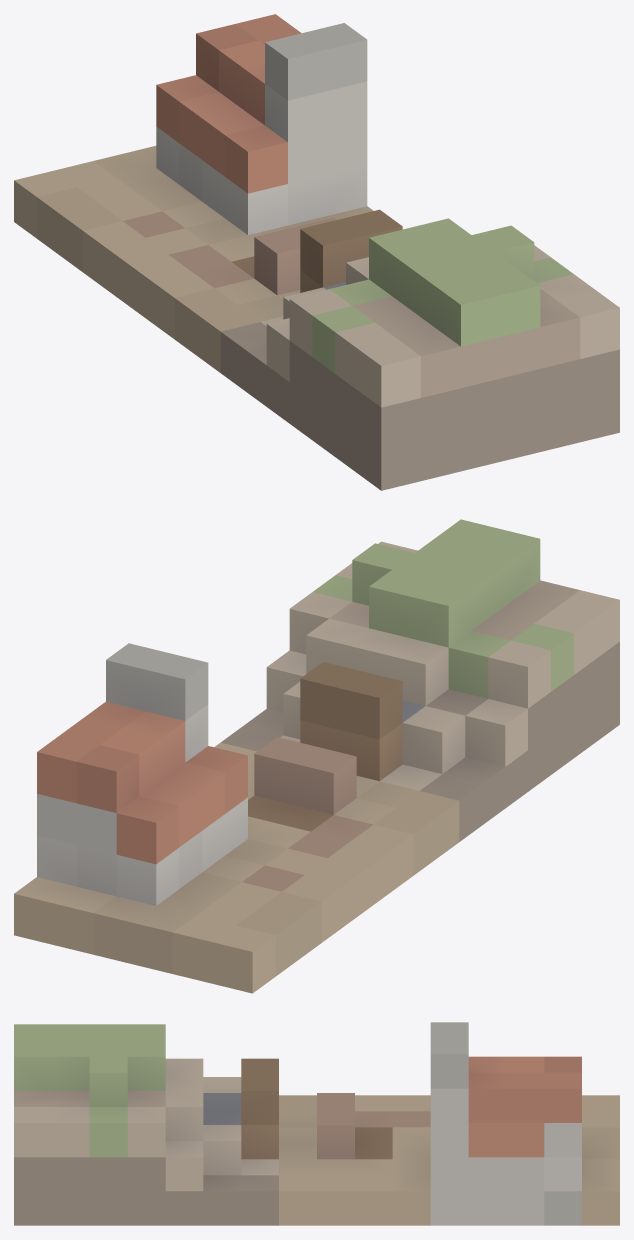
Rendered from iron_mine.lite.glb.
3 views of the same model, one above another, from view 1: azimuth 30°, elevation 25°; view 2: azimuth 150°, elevation 25°; view 3: azimuth 270°, elevation 25° (orthographic). The views are drawn at different scales.
Parts seen in each view (by area): view 1: iron_mine; view 2: iron_mine; view 3: iron_mine.
Part boxes in pixels (<box>): iron_mine: <box>14,14,619,490</box>; iron_mine: <box>14,519,619,993</box>; iron_mine: <box>14,1022,619,1225</box>.
Size of the model in its own units: 3 by 2.5 by 8.
